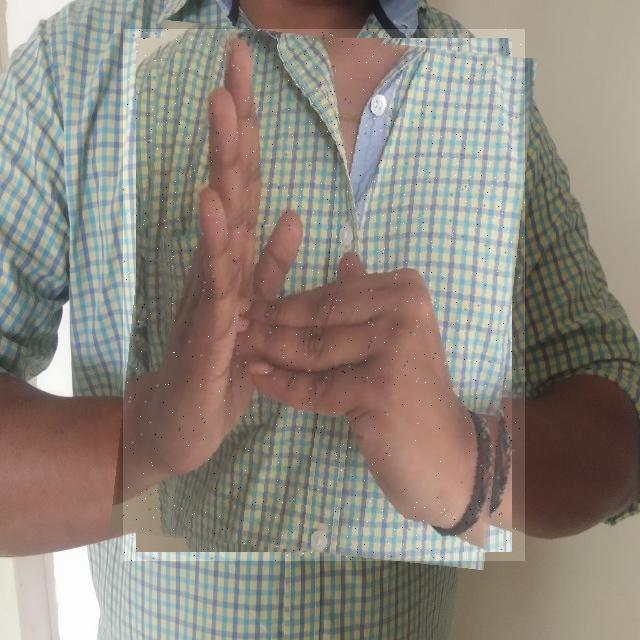Z: (123, 29, 525, 561)
